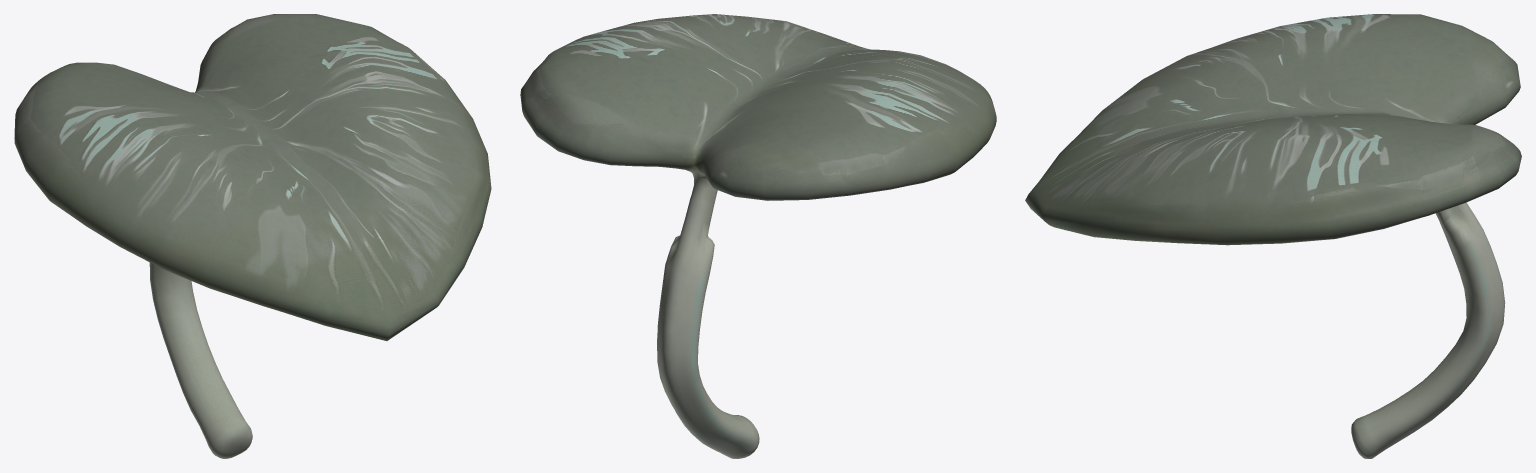
Rendered from heart_marble_2652_v2.glb.
3 renders of one model, left to right at view 1: azimuth 30°, elevation 25°; view 2: azimuth 150°, elevation 25°; view 3: azimuth 270°, elevation 25°, orthographic. The views are drawn at different scales.
Visible parts, largest first — view 1: world; view 2: world; view 3: world.
Part boxes in pixels (bbox=[...]): world: bbox=[14, 14, 491, 458]; world: bbox=[520, 14, 996, 458]; world: bbox=[1025, 14, 1521, 458].
Bounding box in the file's own units: 1.85 × 1.66 × 2.
1 material, 1 textured.
